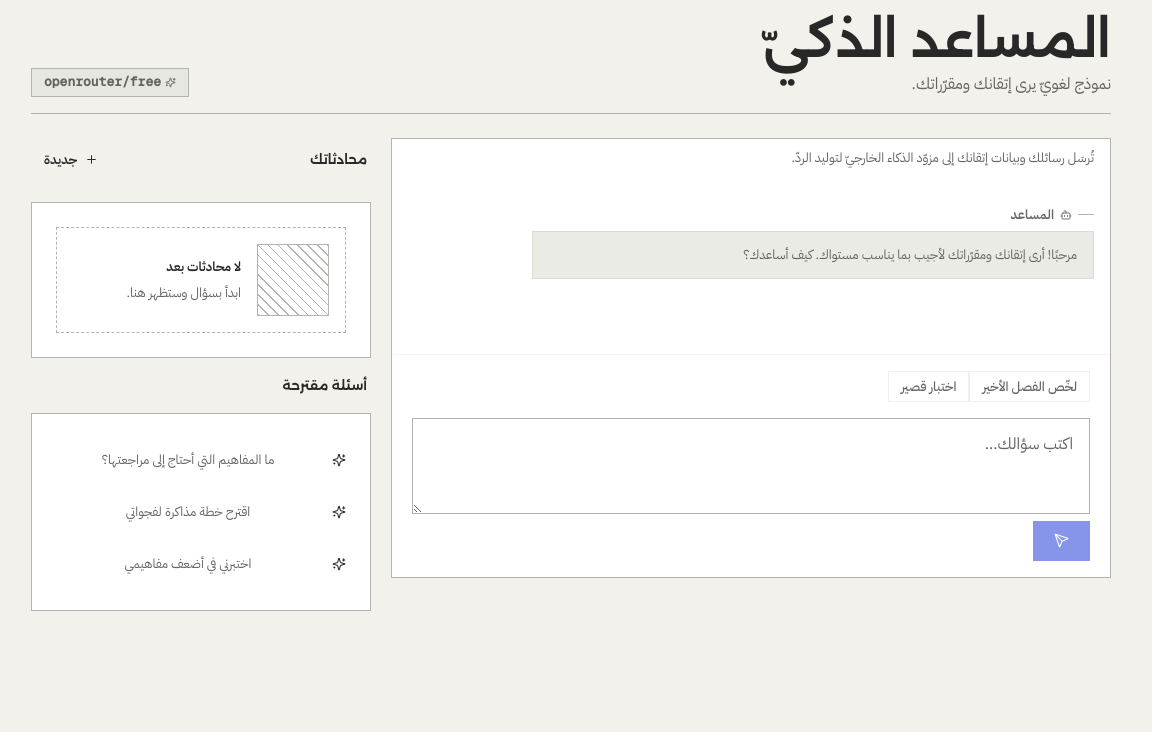
Test: R305-A7 — the conversation ledger › every turn carries a role micro-label — المساعد for bot rows, أنت for user rows
In the text box named "اكتب سؤالك للمساعد": (751, 466) top-left (412, 418), bottom-right (1090, 514), type "سؤالي"
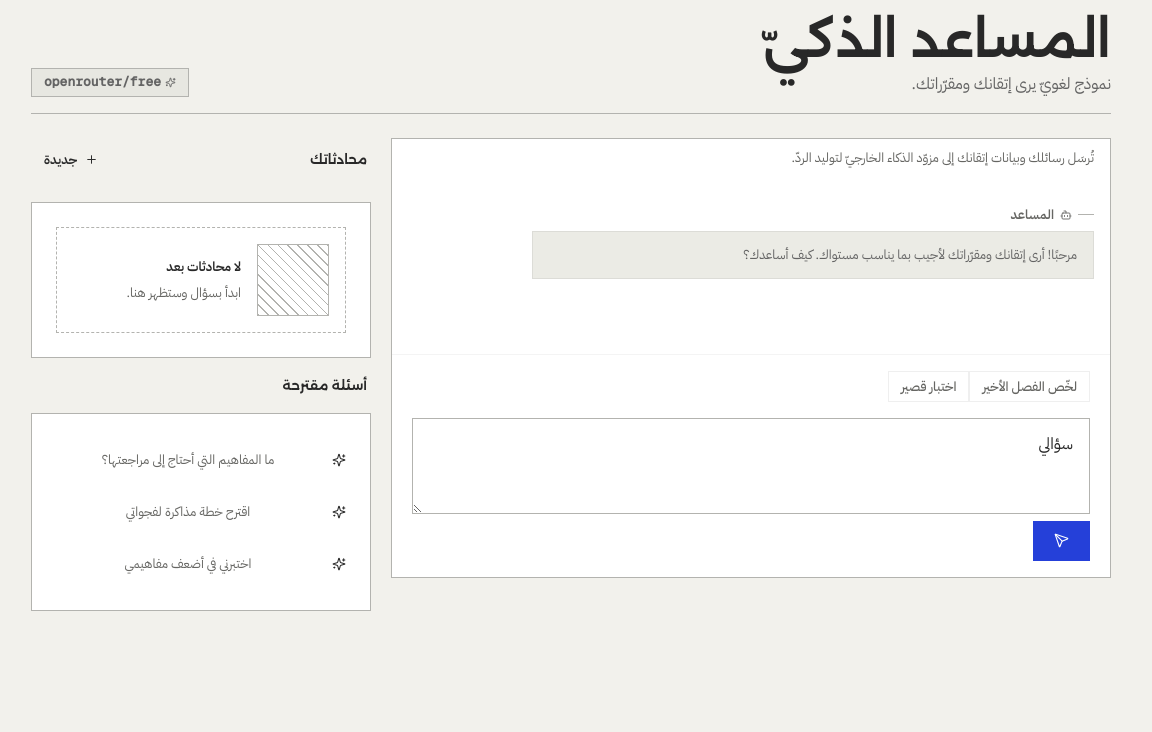
Click the button named "إرسال": (1062, 540) top-left (1033, 520), bottom-right (1090, 560)
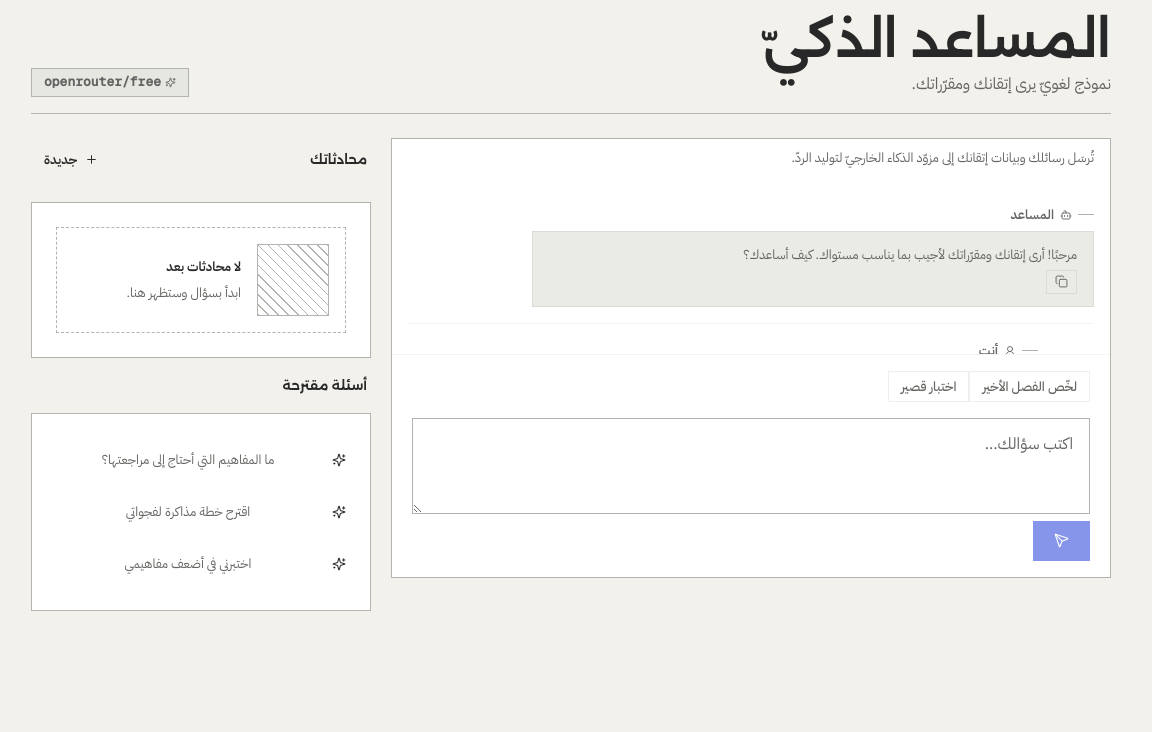
expect the text "أنت" is shown: met, box top-left (979, 341), bottom-right (1016, 354)
